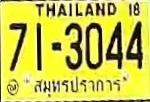0: (85, 23, 102, 68)
1: (36, 23, 42, 70)
3: (64, 22, 82, 69)
4: (105, 20, 122, 68), (125, 20, 142, 68)
7: (8, 23, 26, 70)
SPK: (31, 73, 123, 98)
